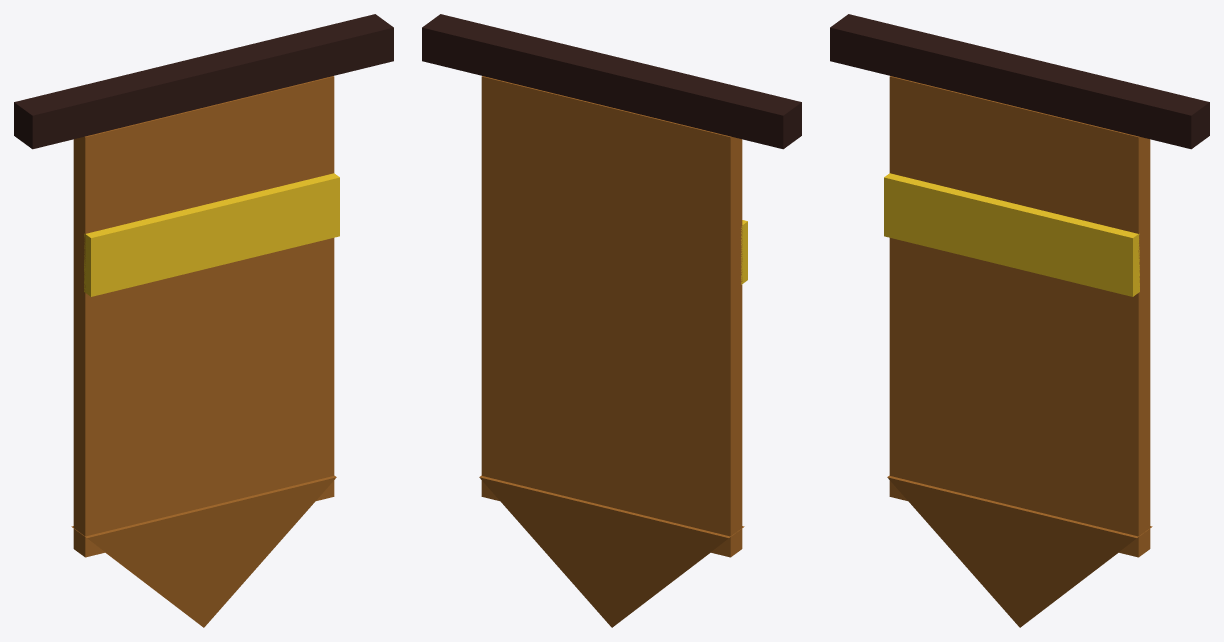
Rendered from banner.glb.
The picture shows the model from 3 angles, left to right: view 1: azimuth 30°, elevation 25°; view 2: azimuth 150°, elevation 25°; view 3: azimuth 330°, elevation 25°; orthographic projection.
Parts seen in each view (by area): view 1: Banner; view 2: Banner; view 3: Banner.
Boxes of the visible parts, x1,y1,x2,y2 form: Banner: (14, 14, 393, 627); Banner: (422, 14, 801, 627); Banner: (830, 14, 1209, 627).
Bounding box in the file's own units: 0.9 × 1.34 × 0.09.
